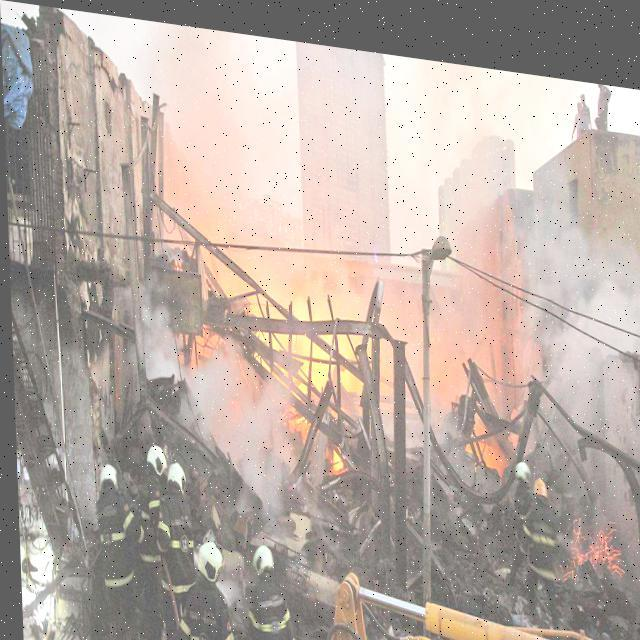Fire: (228, 276, 354, 395), (314, 412, 354, 486)
